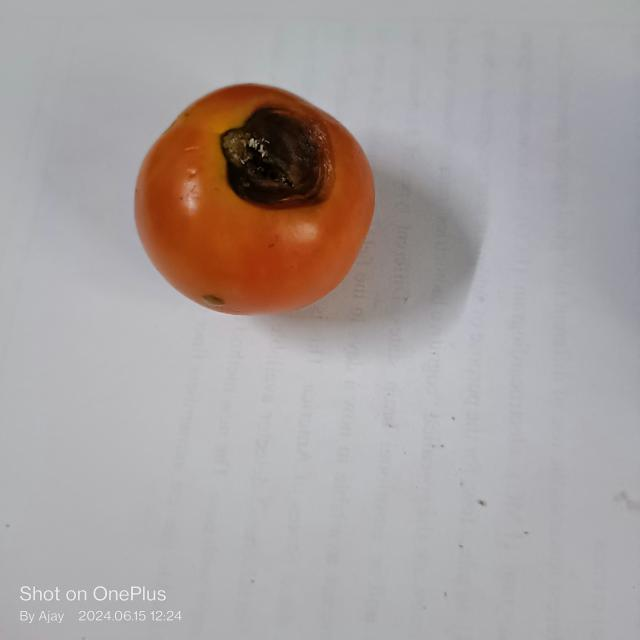Anthrocnose: (219, 107, 330, 210)
